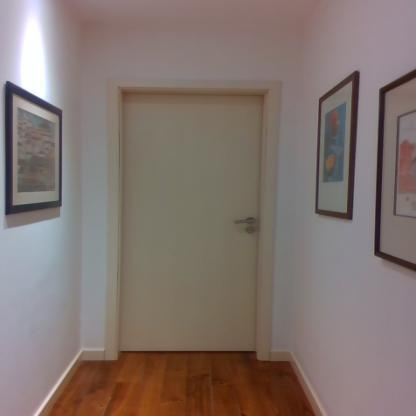door: (121, 94, 261, 351)
lever: (230, 217, 259, 225)
